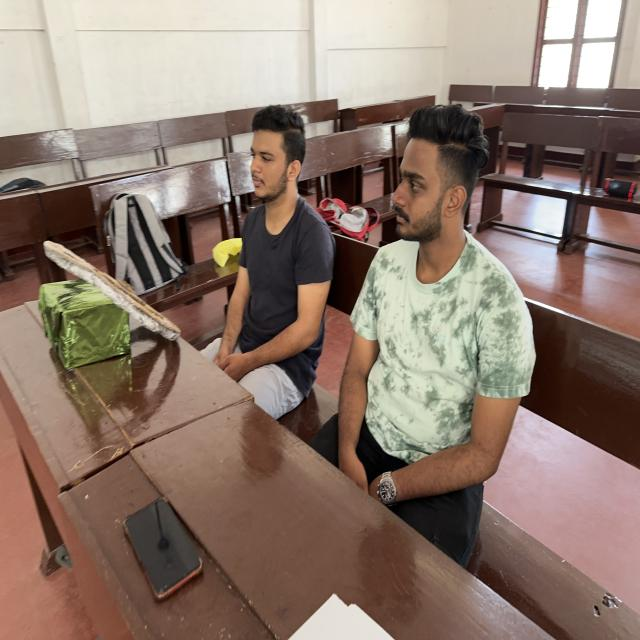Helmet: (356, 237, 526, 537), (231, 200, 327, 422)
